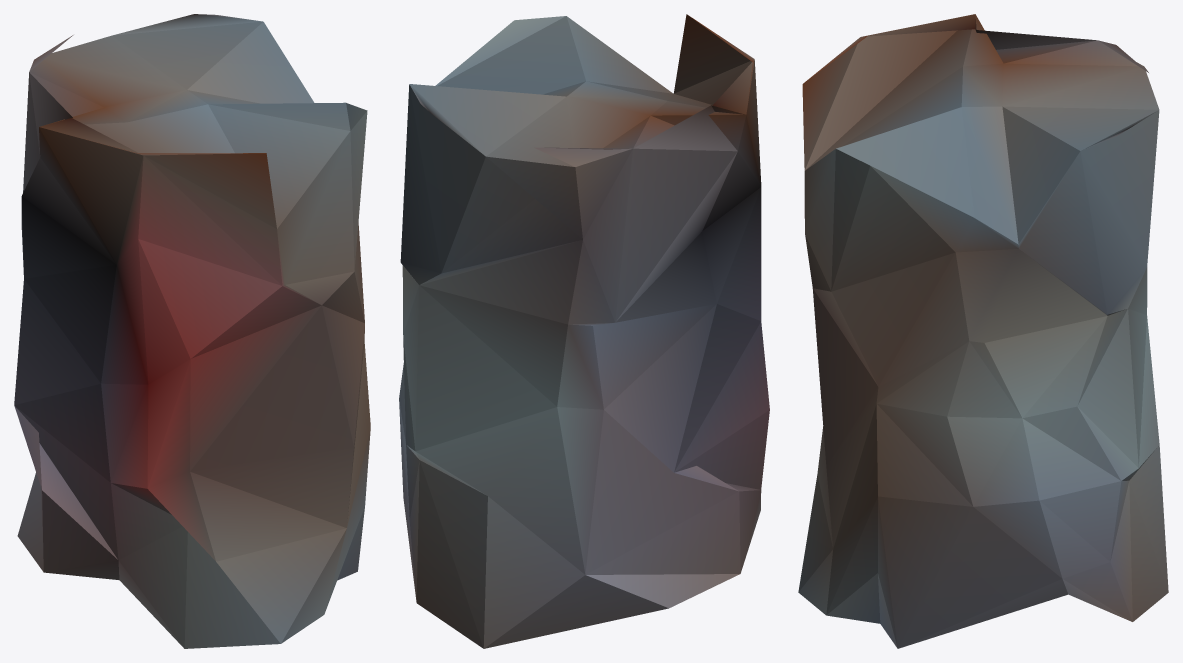
The picture shows the model from 3 angles, left to right: view 1: azimuth 30°, elevation 25°; view 2: azimuth 150°, elevation 25°; view 3: azimuth 270°, elevation 25°; orthographic projection. The views are drawn at different scales.
Bounding box in the file's own units: 0.5989 × 0.9 × 0.6011.
